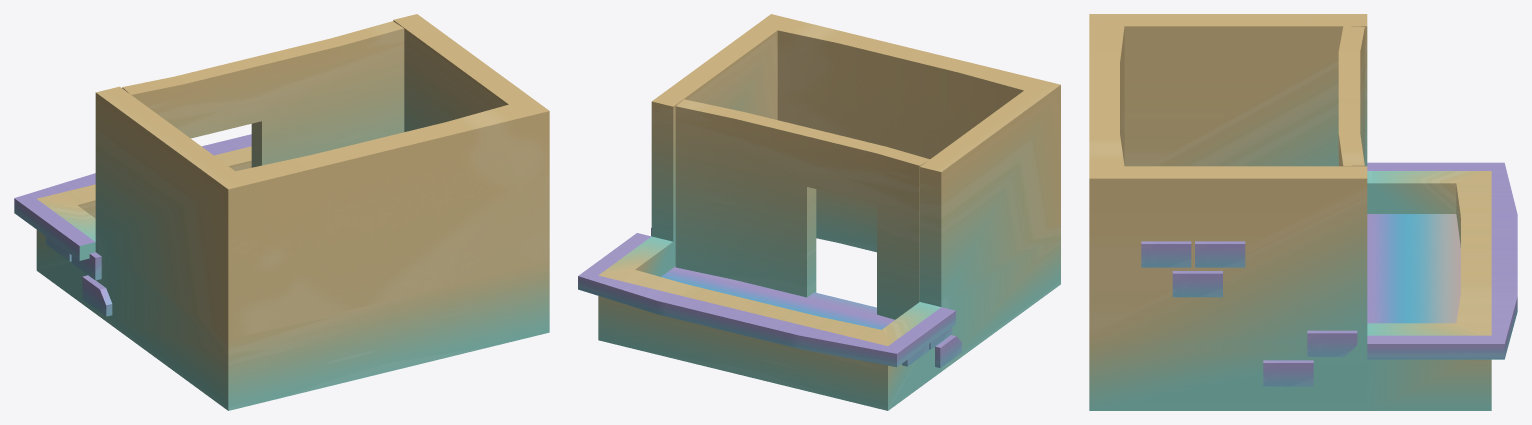
Rendered from B1_Top_GreenPurp.fbx.
The picture shows the model from 3 angles, left to right: view 1: azimuth 30°, elevation 25°; view 2: azimuth 150°, elevation 25°; view 3: azimuth 270°, elevation 25°; orthographic projection. The views are drawn at different scales.
Visible parts, largest first — view 1: polySurface10; view 2: polySurface10; view 3: polySurface10.
Part boxes in pixels (box(x1,y1,x2,y2)): polySurface10: box(14, 14, 549, 410); polySurface10: box(578, 14, 1060, 410); polySurface10: box(1089, 14, 1517, 410).
Size of the model in its own units: 357 by 214 by 357.
